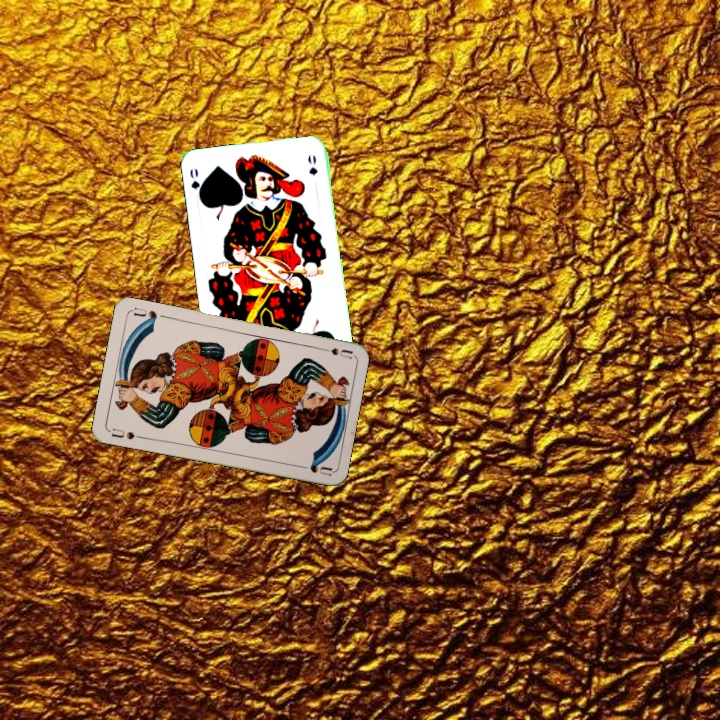GO: (186, 164, 206, 204)
SU: (313, 343, 354, 361), (106, 424, 146, 442)
